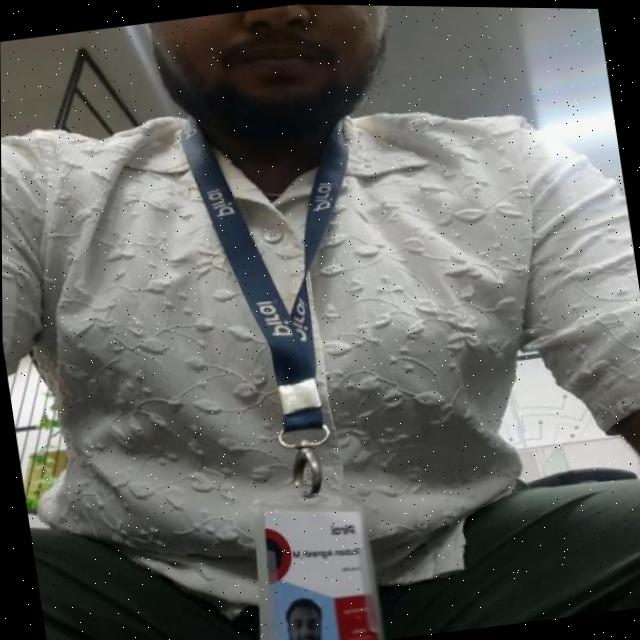id_card: (143, 84, 429, 640)
